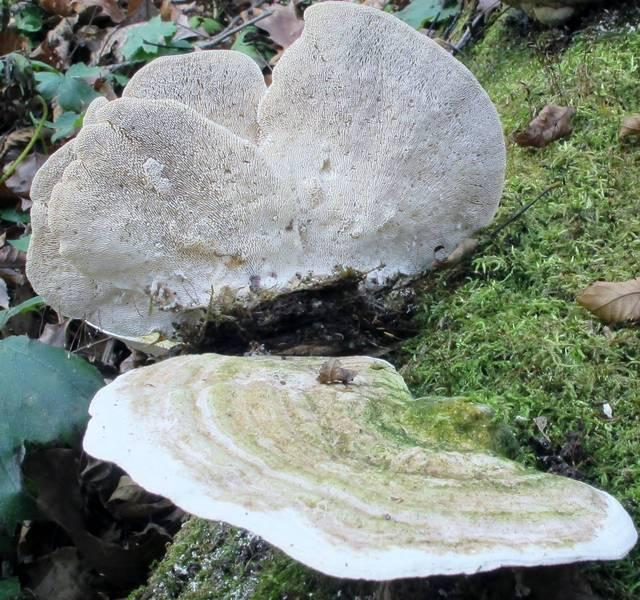poisonous_mushroom: (23, 0, 508, 356), (80, 349, 639, 599)
